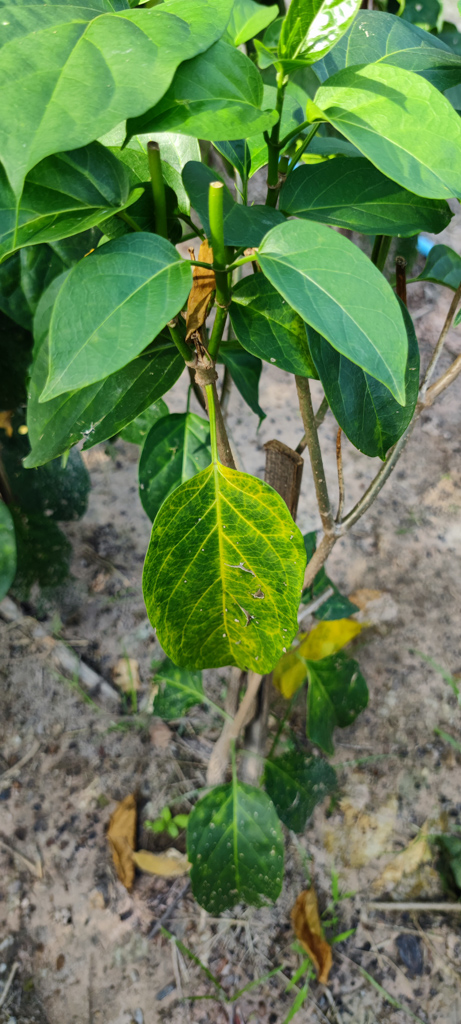Pepper yellow leaf: (145, 471, 294, 680), (277, 613, 362, 713)
